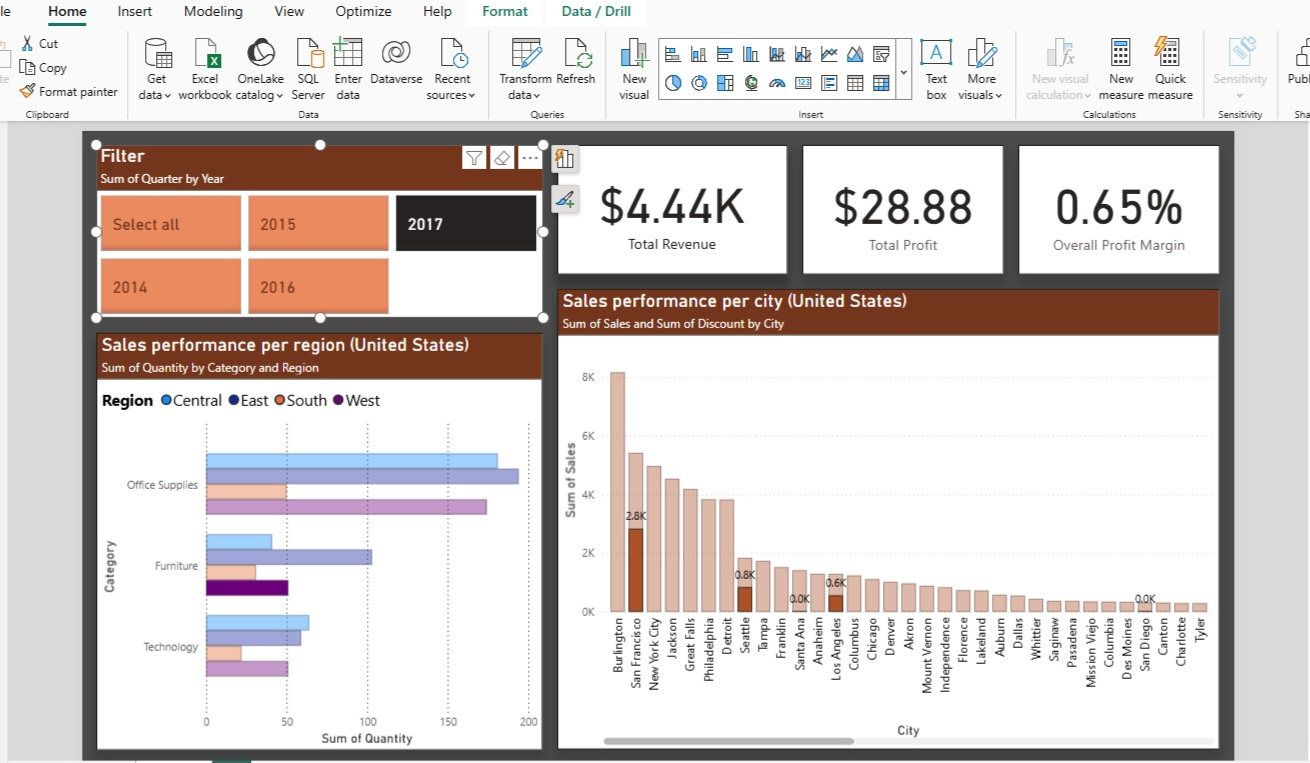

Layout of this report page (visuals, bound fields, positions):
{"tool":"powerbi","page":{"name":"Page 1","canvas":[1280,720],"ordinal":0},"visuals":[{"type":"card","fields":{"Values":["Cleaned Superstore.Total Revenue"]},"box":[528,16,256,144],"z":0},{"type":"card","fields":{"Values":["Cleaned Superstore.Total Profit"]},"box":[800,16,224,144],"z":1000},{"type":"card","fields":{"Values":["Cleaned Superstore.Overall Profit Margin"]},"box":[1040,16,224,144],"z":2000},{"type":"columnChart","title":"Sales performance per city (United States)","fields":{"Category":["Cleaned Superstore.City"],"Y":["Sum(Cleaned Superstore.Sales)"]},"box":[528,176,736,512],"z":3000},{"type":"advancedSlicerVisual","title":"Filter","fields":{"Values":["Year.Year"]},"box":[16,16,496,192],"z":4000},{"type":"clusteredBarChart","title":"Sales performance per region (United States)","fields":{"Series":["Cleaned Superstore.Region"],"Category":["Cleaned Superstore.Category"],"Y":["Sum(Cleaned Superstore.Quantity)"]},"box":[16,224,496,464],"z":5000}]}

Visuals, with their boxes on the page's 1280x720 design canvas (x1, y1, x2, y2). These are canvas units, not pixel positions in the 1310x763 screenshot, which may show the page scaled, cropped or inside an application window:
card - Cleaned Superstore.Total Revenue: [left=528, top=16, right=784, bottom=160]
card - Cleaned Superstore.Total Profit: [left=800, top=16, right=1024, bottom=160]
card - Cleaned Superstore.Overall Profit Margin: [left=1040, top=16, right=1264, bottom=160]
"Sales performance per city (United States)" columnChart: [left=528, top=176, right=1264, bottom=688]
"Filter" advancedSlicerVisual: [left=16, top=16, right=512, bottom=208]
"Sales performance per region (United States)" clusteredBarChart: [left=16, top=224, right=512, bottom=688]
